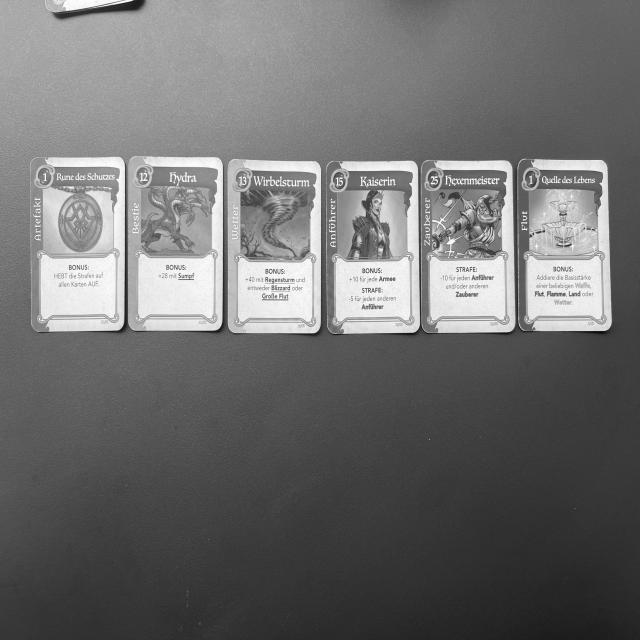Empress: (323, 160, 422, 334)
Fountain Of Life: (518, 159, 613, 332)
Hydra: (128, 158, 224, 334)
Rune Of Protection: (27, 159, 125, 333)
Warlock Lord: (419, 159, 517, 333)
Whirlwind: (226, 159, 322, 333)
